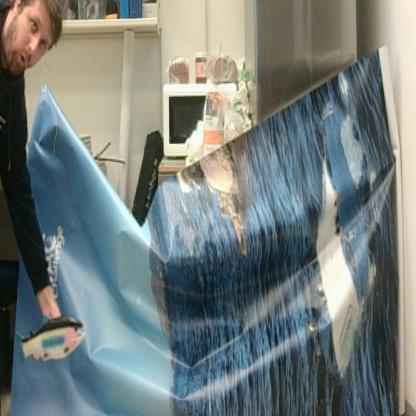rubberfish: (14, 314, 85, 362)
